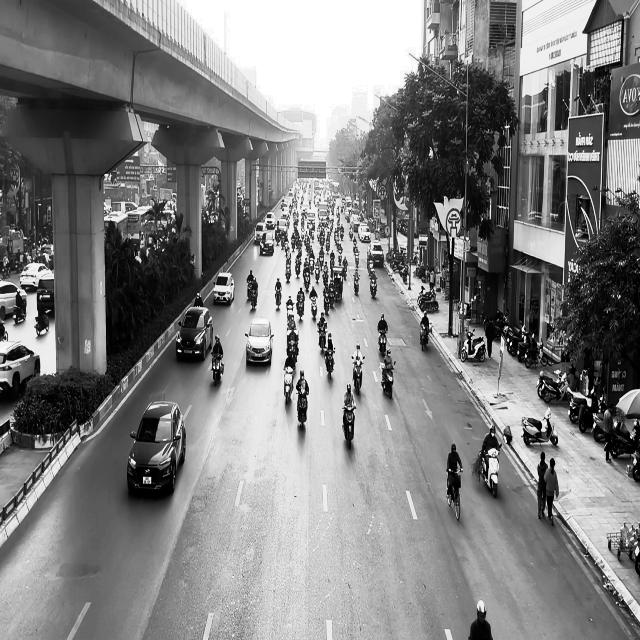car: (127, 399, 186, 495), (0, 340, 41, 399), (176, 306, 213, 361), (245, 318, 275, 365), (0, 279, 28, 322), (213, 272, 235, 306)
motorbike: (522, 406, 558, 446), (478, 446, 502, 498), (446, 466, 464, 520), (461, 328, 486, 362), (342, 403, 357, 449), (380, 360, 396, 398), (352, 355, 365, 394), (296, 387, 308, 429), (284, 366, 295, 404), (324, 346, 336, 379), (212, 353, 224, 385), (420, 321, 430, 351), (318, 324, 328, 353), (378, 328, 388, 354), (354, 270, 361, 295), (370, 274, 377, 298), (275, 288, 282, 310)
